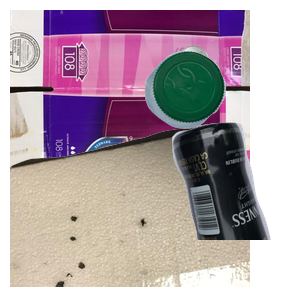cardboard: (10, 10, 250, 190)
glass: (106, 120, 300, 300)
plastic: (142, 48, 300, 169)
trash: (10, 120, 250, 300)
